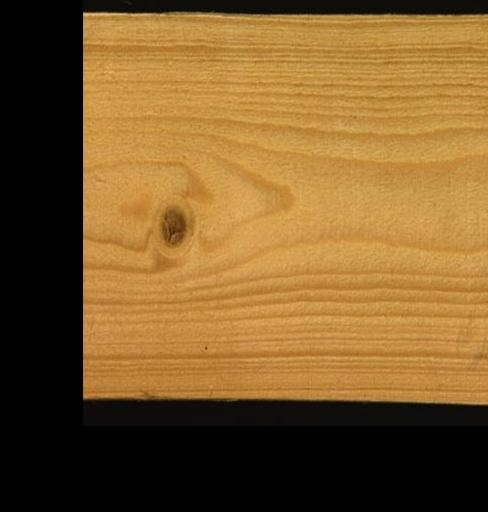sound_knot: (157, 203, 191, 245)
